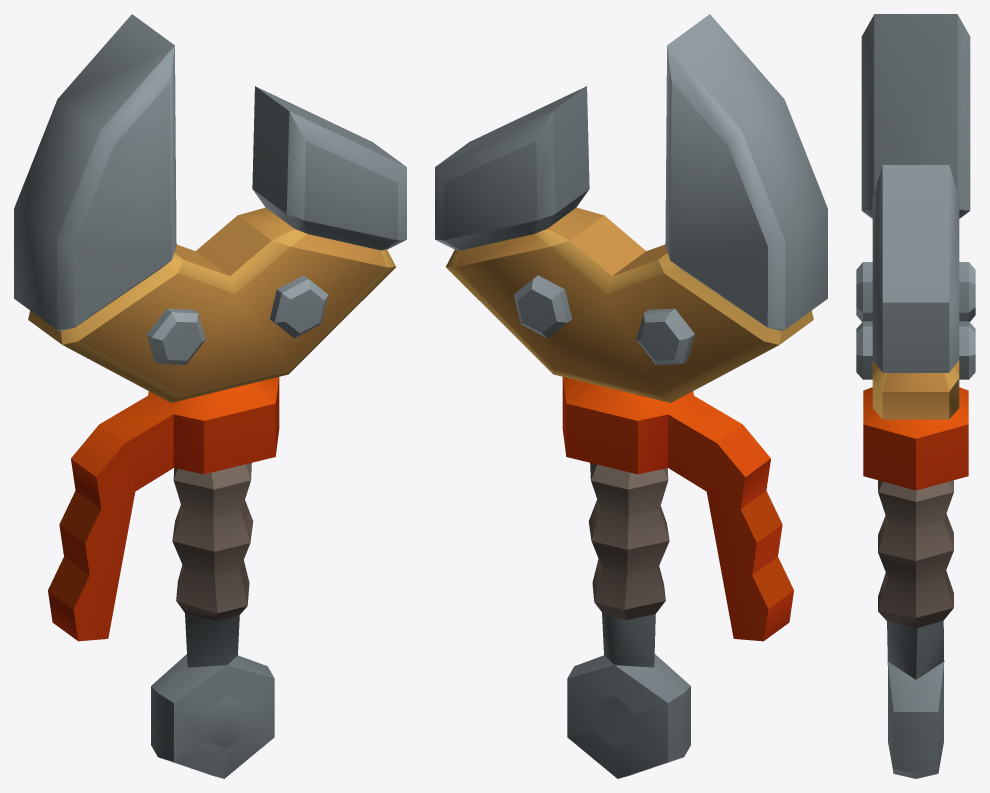
The model's file is engineer_Wrench.obj.
The picture shows the model from 3 angles, left to right: view 1: azimuth 30°, elevation 25°; view 2: azimuth 150°, elevation 25°; view 3: azimuth 270°, elevation 25°; orthographic projection. The views are drawn at different scales.
Visible parts, largest first — view 1: engineer_Wrench; view 2: engineer_Wrench; view 3: engineer_Wrench.
Part boxes in pixels (x1,y1,x2,y2): engineer_Wrench: [14, 14, 406, 778]; engineer_Wrench: [435, 14, 827, 778]; engineer_Wrench: [856, 14, 975, 778].
Size of the model in its own units: 0.7189 by 1.47 by 0.2168.
Materials: 1 (1 with a texture image).
